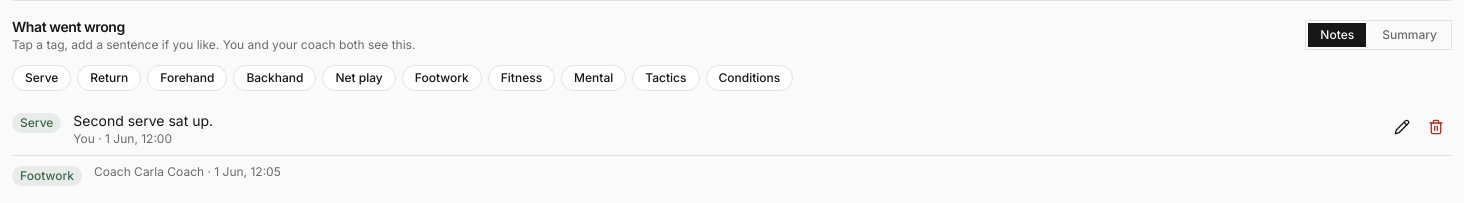
Test: MatchIssuesPanel — summary toggle › one tap shows the computed per-match summary with the thing to work on
Expected: the text "Second serve sat up." is shown, [73, 112, 213, 129]
Click the tab "Summary": (1410, 35) [1370, 23, 1449, 47]
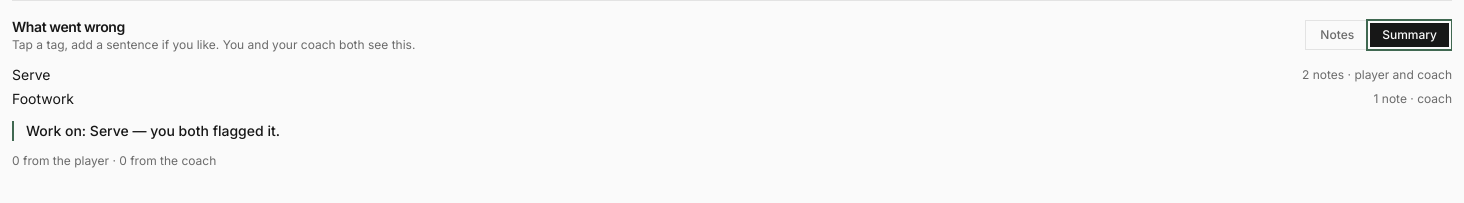
Expected: the list item "Serve 2 notes · player and coach" is shown, [12, 65, 1452, 85]
Now the text "Work on: Serve — you both flagged it." is shown, box [12, 121, 1452, 141]
Now the list item "Footwork 1 note · coach" is shown, box [12, 89, 1452, 109]
